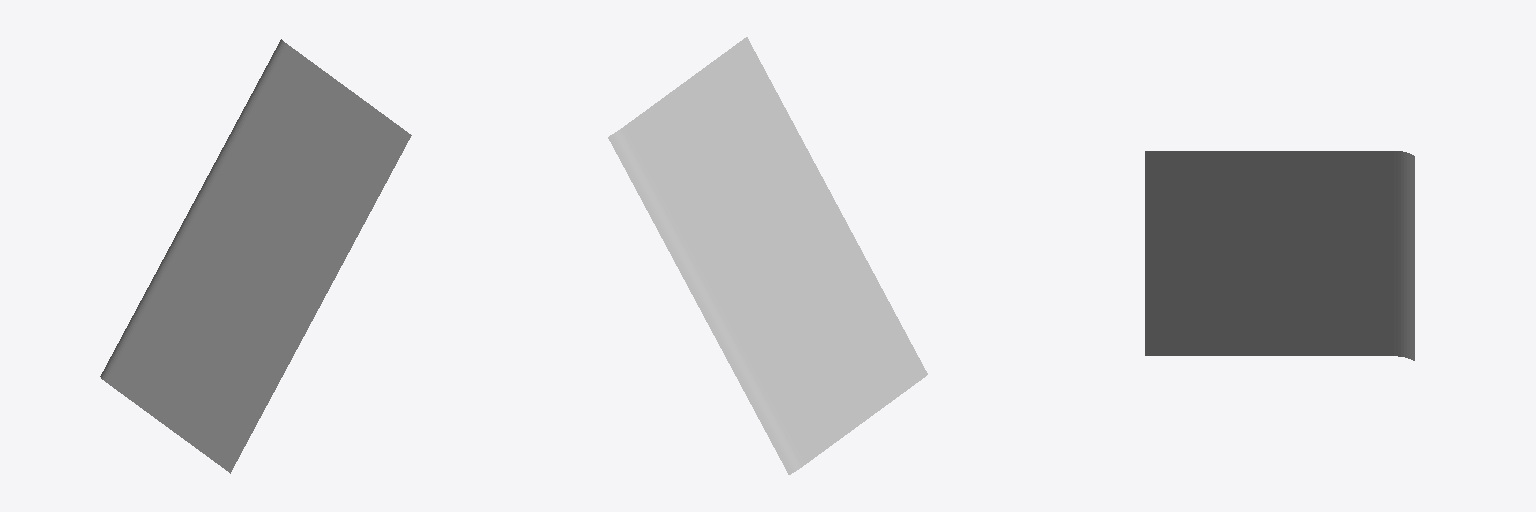
Rendered from Page_17-18_Plane_003.obj.
The picture shows the model from 3 angles: view 1: azimuth 30°, elevation 25°; view 2: azimuth 150°, elevation 25°; view 3: azimuth 270°, elevation 25°; orthographic projection.
Parts seen in each view (by area): view 1: Page_17-18_Plane.003; view 2: Page_17-18_Plane.003; view 3: Page_17-18_Plane.003.
Part boxes in pixels (x1,y1,x2,y2): Page_17-18_Plane.003: (100,39,411,473); Page_17-18_Plane.003: (608,37,927,474); Page_17-18_Plane.003: (1145,151,1414,360).
Bounding box in the file's own units: 2.26 × 3.46 × 2.84.